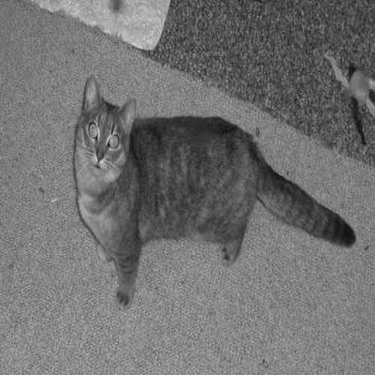cat: (24, 73, 355, 280)
